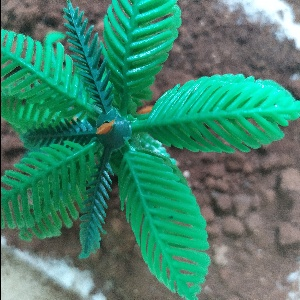plant: (1, 1, 299, 299)
